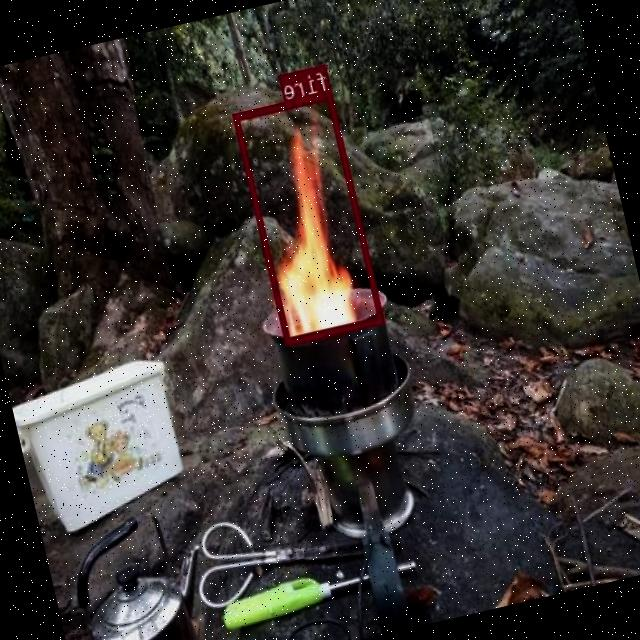fire: (233, 89, 386, 344)
